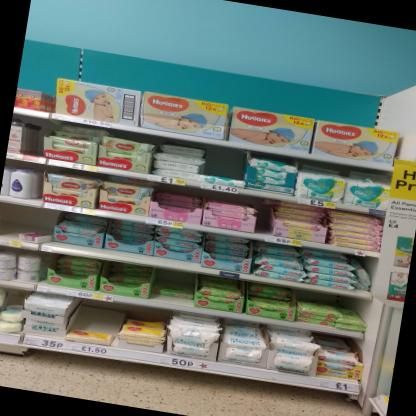empty_space: (0, 214, 23, 243)
